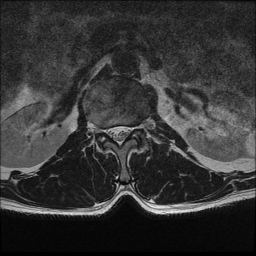CCS_normal: (116, 121, 123, 150)
LFS_severe_stenosis: (131, 120, 139, 136)
LLS_normal: (123, 120, 131, 145)
RFS_stenosis: (99, 123, 108, 139)
RLS_normal: (108, 121, 116, 144)
